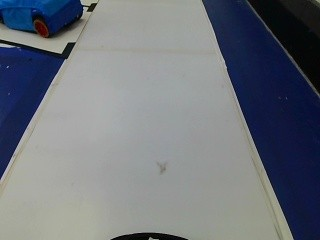car: (0, 0, 83, 40)
